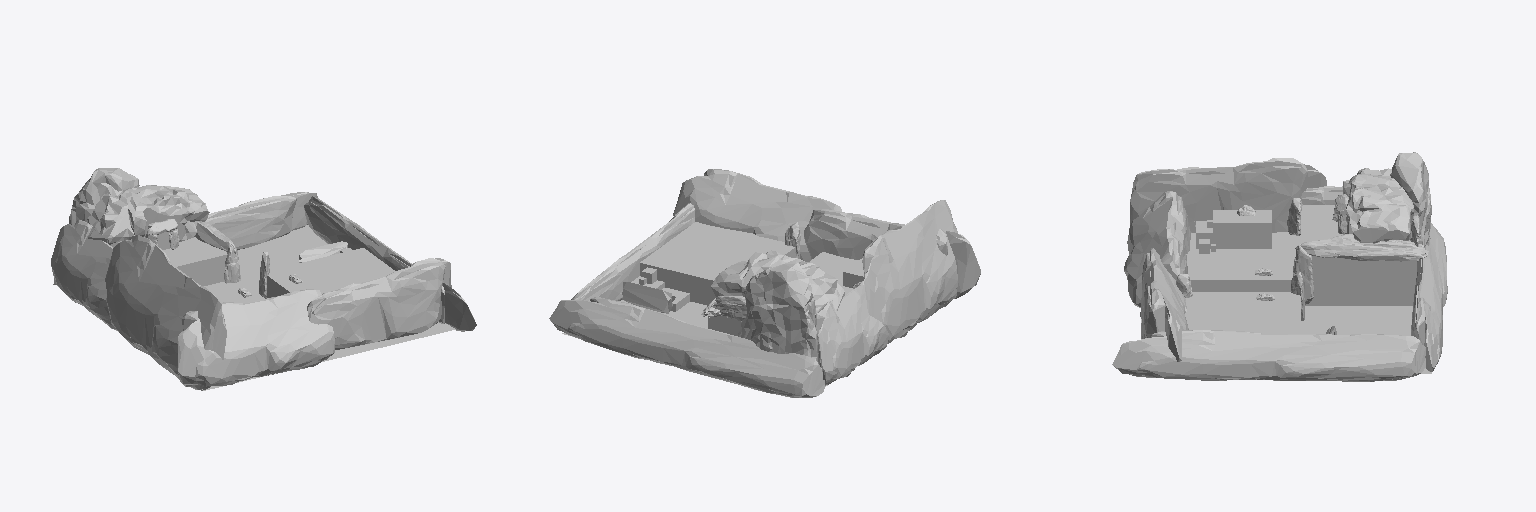
The model's file is mountain.obj.
3 views of the same model, side by side, from view 1: azimuth 30°, elevation 25°; view 2: azimuth 150°, elevation 25°; view 3: azimuth 270°, elevation 25° (orthographic).
Visible parts, largest first — view 1: Ground_Plane, Rock_9; view 2: Ground_Plane, Rock_9; view 3: Ground_Plane, Rock_9.
Boxes of the visible parts, x1,y1,x2,y2 form: Ground_Plane: [51, 168, 476, 390]; Rock_9: [86, 185, 209, 247]; Ground_Plane: [549, 169, 980, 397]; Rock_9: [711, 250, 844, 312]; Ground_Plane: [1112, 152, 1447, 381]; Rock_9: [1343, 168, 1413, 243].
Bounding box in the file's own units: 116 × 45.03 × 115.